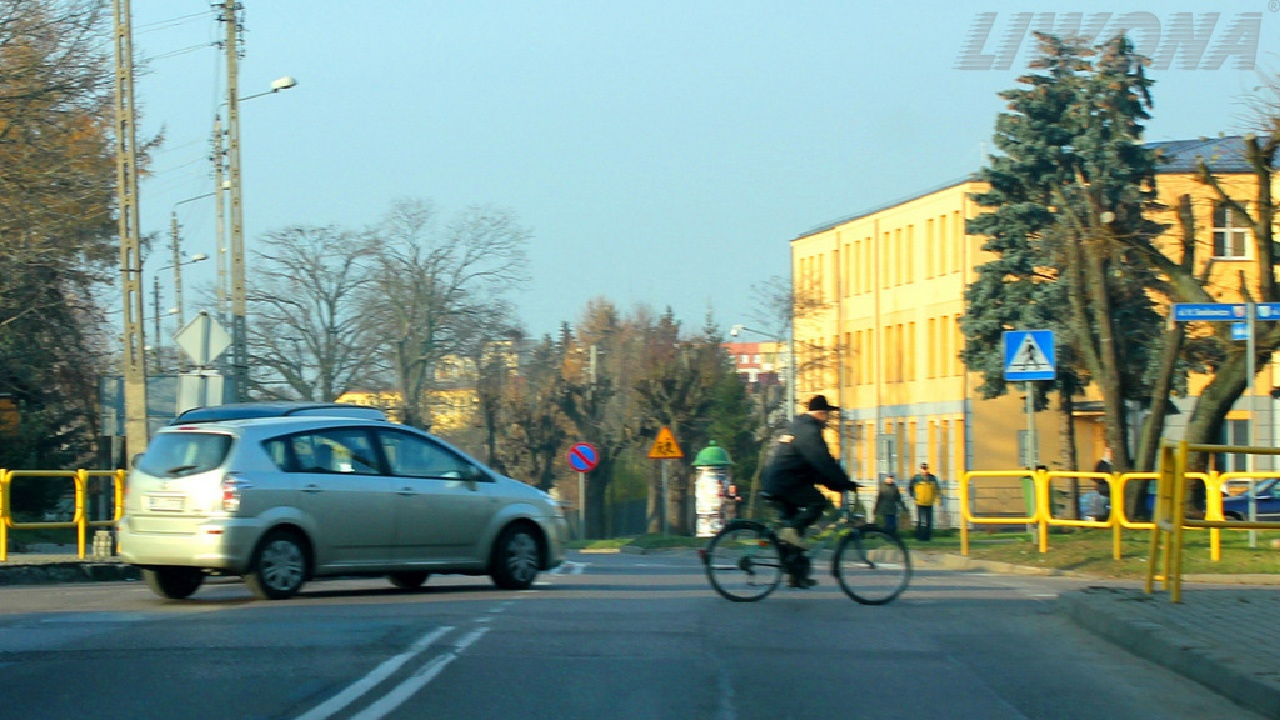B35: (564, 441, 599, 473)
D6: (1002, 329, 1056, 380)
